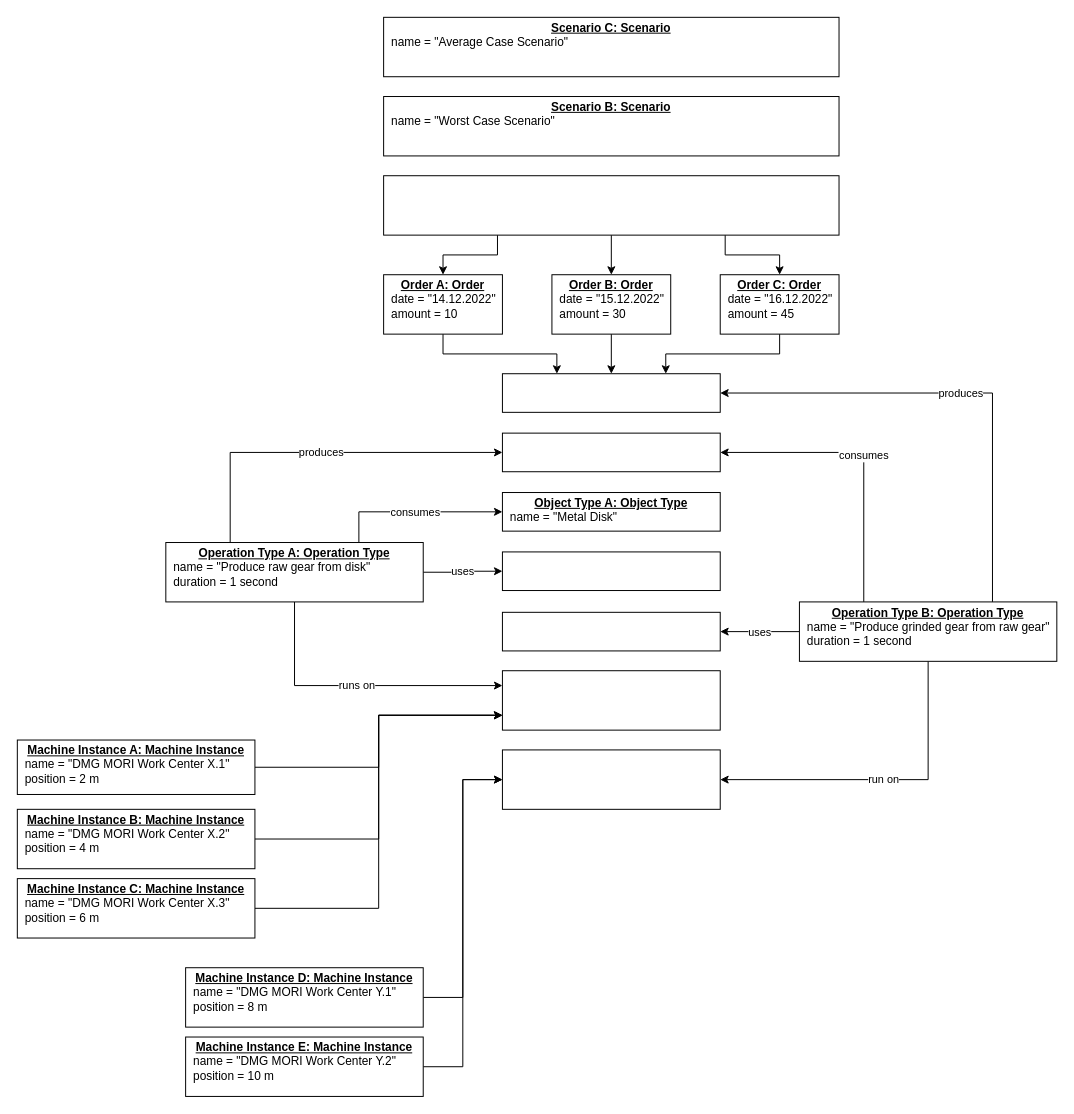
Image size: 1074x1114. Some labels were removed from this diagram. Each missing label, with the centre of its shape:
Machine Type A: Machine Type name = "DMG MORI Work Center X" size = 10 x 10 x 5: point 610,700
Machine Type B: Machine Type name = "DMG MORI Work Center Y" size = 10 x 10 x 5: point 610,779
Object Type B: Object Type name = "Metal Gear (Raw)": point 610,452
Object Type C: Object Type name = "Metal Gear (Grinded)": point 610,392
Scenario A: Scenario name = "Best Case Scenario": point 611,205
Tool Type A: Tool Type name = "Driller": point 610,571
Tool Type B: Tool Type name = "Grinder": point 610,631
